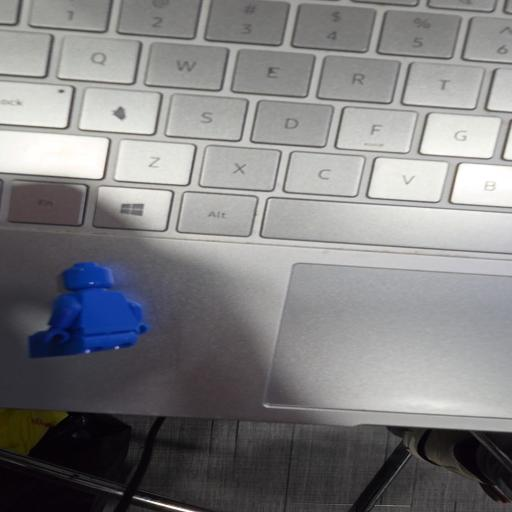Blue: (29, 262, 148, 357)
